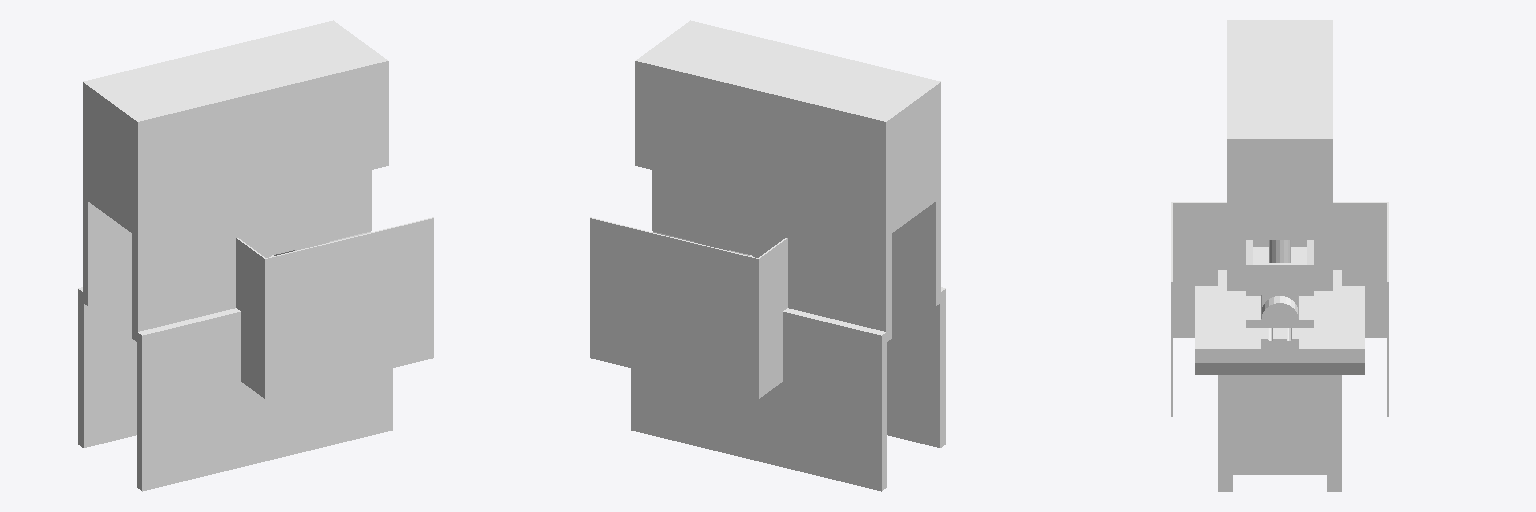
robot.urdf — 车床:
<?xml version="1.0" encoding="utf-8"?>
<!-- This URDF was automatically created by SolidWorks to URDF Exporter! Originally created by Stephen Brawner (brawner@gmail.com) 
     Commit Version: 1.6.0-4-g7f85cfe  Build Version: 1.6.7995.38578
     For more information, please see http://wiki.ros.org/sw_urdf_exporter -->
<robot
  name="车床">
  <link
    name="base_link">
    <inertial>
      <origin
        xyz="-0.70144 -4.1633E-17 0.8325"
        rpy="0 0 0" />
      <mass
        value="981.31" />
      <inertia
        ixx="409.38"
        ixy="1.5831E-14"
        ixz="93.805"
        iyy="552.06"
        iyz="-7.6928E-14"
        izz="246.68" />
    </inertial>
    <visual>
      <origin
        xyz="0 0 0"
        rpy="0 0 0" />
      <geometry>
        <mesh
          filename="package://车床/meshes/base_link.STL" />
      </geometry>
      <material
        name="">
        <color
          rgba="1 1 1 1" />
      </material>
    </visual>
    <collision>
      <origin
        xyz="0 0 0"
        rpy="0 0 0" />
      <geometry>
        <mesh
          filename="package://车床/meshes/base_link.STL" />
      </geometry>
    </collision>
  </link>
  <link
    name="crush">
    <inertial>
      <origin
        xyz="-0.28839 1.4572E-16 1.0339"
        rpy="0 0 0" />
      <mass
        value="103.97" />
      <inertia
        ixx="8.9558"
        ixy="1.1683E-16"
        ixz="-0.14842"
        iyy="9.6107"
        iyz="1.6646E-16"
        izz="3.0554" />
    </inertial>
    <visual>
      <origin
        xyz="0 0 0"
        rpy="0 0 0" />
      <geometry>
        <mesh
          filename="package://车床/meshes/crush.STL" />
      </geometry>
      <material
        name="">
        <color
          rgba="1 1 1 1" />
      </material>
    </visual>
    <collision>
      <origin
        xyz="0 0 0"
        rpy="0 0 0" />
      <geometry>
        <mesh
          filename="package://车床/meshes/crush.STL" />
      </geometry>
    </collision>
  </link>
  <joint
    name="crush"
    type="prismatic">
    <origin
      xyz="0 0 0"
      rpy="0 0 0" />
    <parent
      link="base_link" />
    <child
      link="crush" />
    <axis
      xyz="0 0 1" />
    <limit
      lower="0"
      upper="0"
      effort="0"
      velocity="0" />
  </joint>
</robot>

--- Facts derived from the render (not from the file) ---
Views: 3 orthographic renders of the robot side by side, from view 1: azimuth 30°, elevation 25°; view 2: azimuth 150°, elevation 25°; view 3: azimuth 270°, elevation 25°.
Robot: 车床 — 2 links, 1 joints (1 prismatic); root link base_link; default pose: all joints at 0.
Visible links, largest first — view 1: base_link; view 2: base_link; view 3: base_link, crush.
Boxes of the visible links, bbox=[...] form: base_link: bbox=[78, 20, 433, 491]; base_link: bbox=[590, 20, 945, 491]; base_link: bbox=[1171, 20, 1388, 491]; crush: bbox=[1246, 240, 1313, 327].
Size in the robot's own frame: 1.6 by 1.17 by 2.09 metres.
2 mesh visuals loaded from 2 distinct referenced files (2 binary STL).
